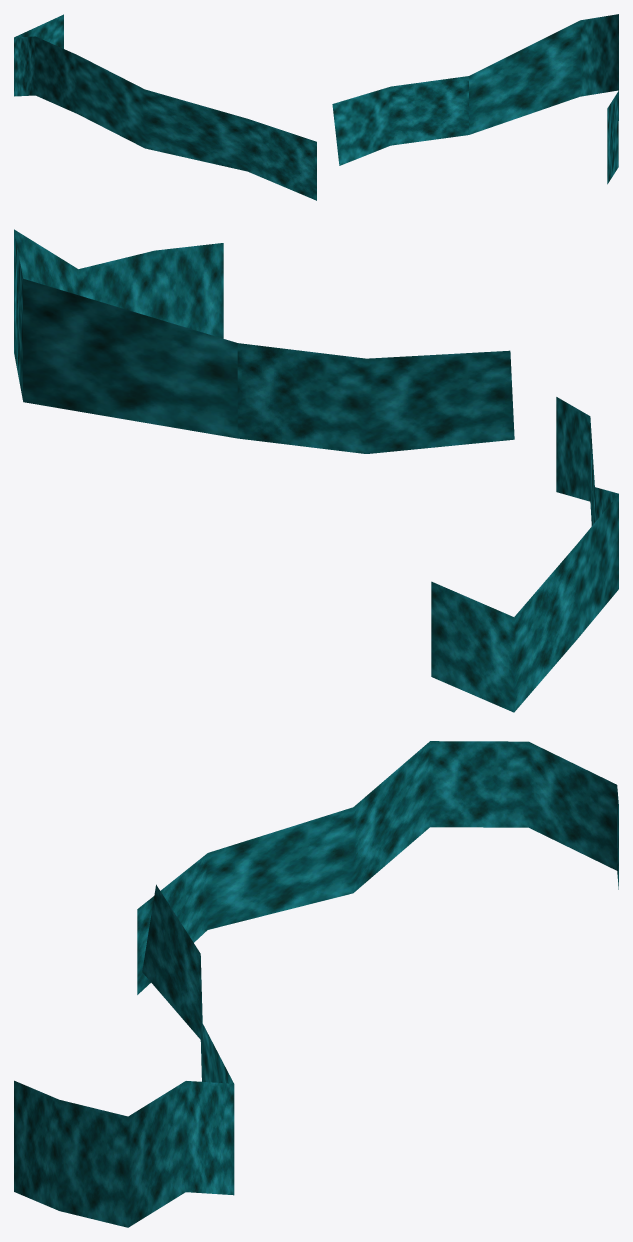
File: MIRKWOOD_FOGF01.fbx
3 views of the same model, one above another, from view 1: azimuth 30°, elevation 25°; view 2: azimuth 150°, elevation 25°; view 3: azimuth 270°, elevation 25° (orthographic). The views are drawn at different scales.
Parts seen in each view (by area): view 1: MIRKWOOD_FOGF01; view 2: MIRKWOOD_FOGF01; view 3: MIRKWOOD_FOGF01.
Part boxes in pixels (left/top/right/bottom): MIRKWOOD_FOGF01: left=14, top=14, right=618, bottom=200; MIRKWOOD_FOGF01: left=14, top=229, right=618, bottom=712; MIRKWOOD_FOGF01: left=14, top=741, right=618, bottom=1227.
Size of the model in its own units: 684499 by 168672 by 527844.
1 material, 1 textured.
